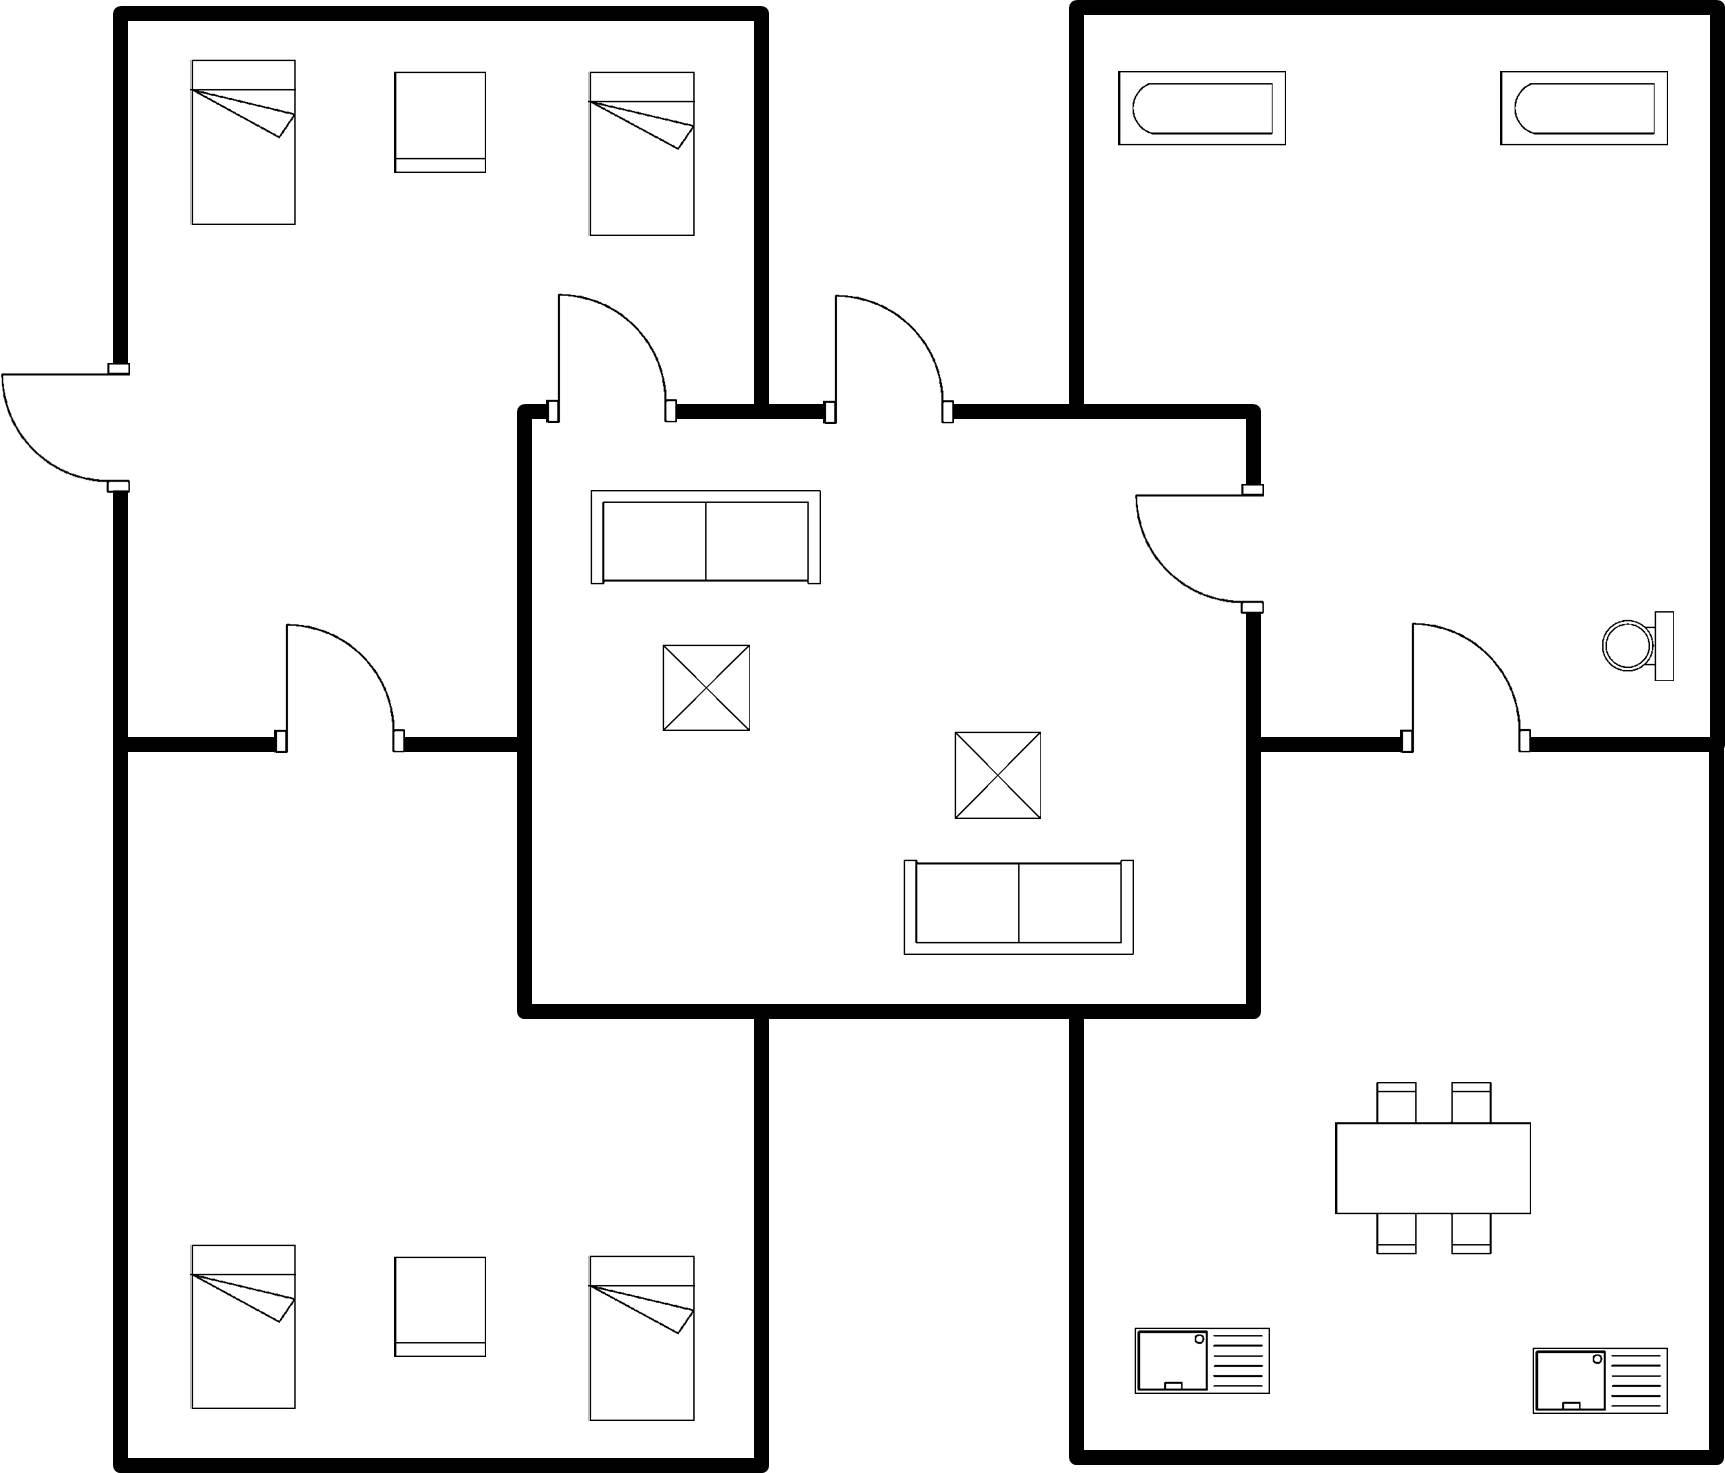bed: (573, 58, 711, 245), (575, 1246, 708, 1435), (183, 45, 305, 234), (183, 1233, 305, 1419), (383, 1245, 498, 1366)
dining_table: (1322, 1070, 1542, 1268)
sink: (1122, 1317, 1282, 1404), (1523, 1334, 1680, 1422)
sofa: (885, 848, 1150, 964), (578, 479, 833, 599)
toilet: (1586, 598, 1686, 699)
tub: (1491, 53, 1680, 161), (1103, 61, 1304, 156)
